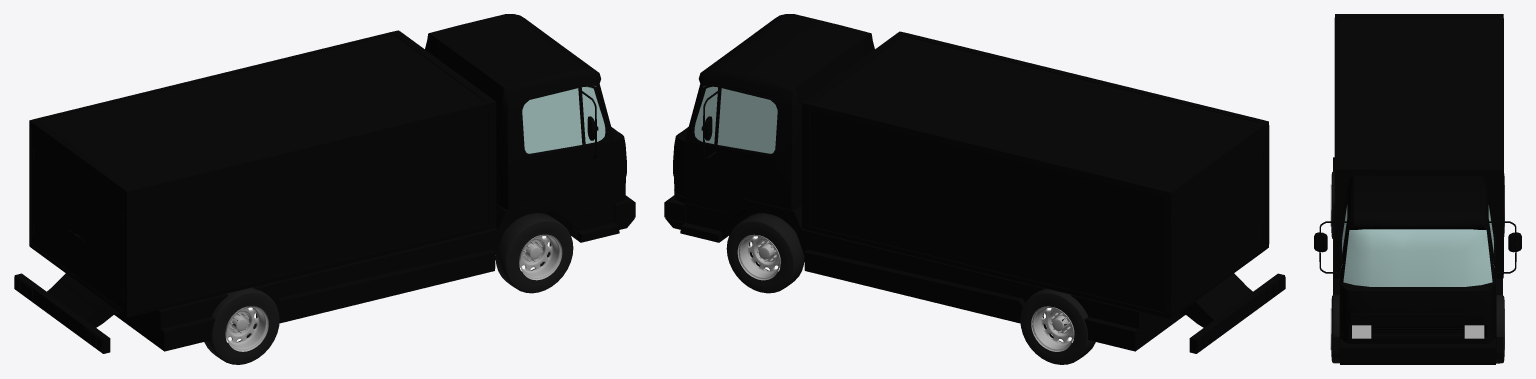
File: Truck.fbx
The picture shows the model from 3 angles, left to right: view 1: azimuth 30°, elevation 25°; view 2: azimuth 150°, elevation 25°; view 3: azimuth 270°, elevation 25°; orthographic projection. The views are drawn at different scales.
Visible parts, largest first — view 1: node_id8, node_id4, node_id10, tyres05_2, tyres05, d02, d02_2; view 2: node_id8, node_id4, node_id10, tyres04_2, tyres04, d05, d05_2; view 3: node_id8, node_id4, node_id10, tyres05_2, tyres04_2, tyres05.
Part boxes in pixels (x1,y1,x2,y2): node_id8: (29, 30, 496, 317); node_id4: (14, 14, 635, 353); node_id10: (522, 86, 605, 153); tyres05_2: (495, 213, 573, 293); tyres05: (204, 287, 279, 364); d02: (225, 306, 268, 351); d02_2: (519, 234, 562, 280); node_id8: (802, 31, 1269, 318); node_id4: (664, 14, 1285, 353); node_id10: (694, 86, 777, 153); tyres04_2: (726, 213, 804, 293); tyres04: (1020, 288, 1095, 364); d05: (1031, 306, 1074, 351); d05_2: (737, 234, 780, 280); node_id8: (1334, 14, 1503, 278); node_id4: (1314, 157, 1521, 364); node_id10: (1341, 205, 1494, 286); tyres05_2: (1331, 294, 1339, 363); tyres04_2: (1496, 295, 1504, 363); tyres05: (1331, 171, 1334, 238).
Size of the model in its own units: 65.46 by 23.86 by 25.66.
